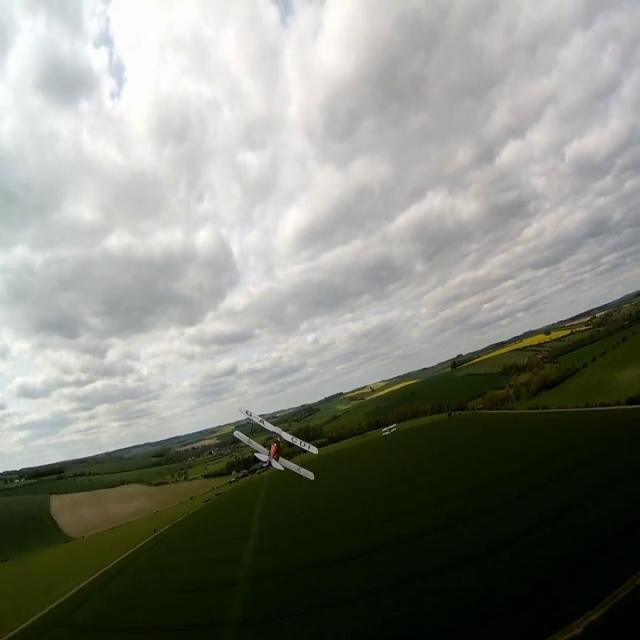iha: (265, 442, 286, 445)
